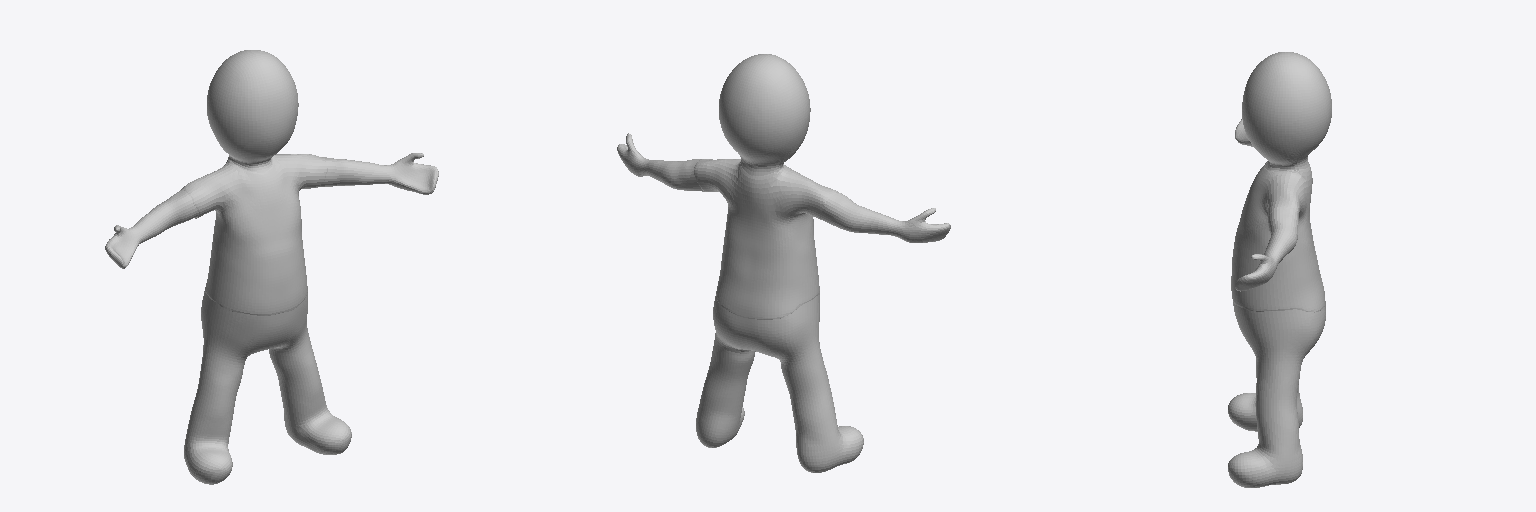
Rendered from stick.obj.
3 views of the same model, side by side, from view 1: azimuth 30°, elevation 25°; view 2: azimuth 150°, elevation 25°; view 3: azimuth 270°, elevation 25° (orthographic).
Parts seen in each view (by area): view 1: Group17963, Group27963; view 2: Group17963, Group27963; view 3: Group17963, Group27963.
Part boxes in pixels (x1,y1,x2,y2): Group17963: (105, 50, 438, 484); Group27963: (182, 154, 327, 315); Group17963: (617, 54, 950, 472); Group27963: (694, 159, 837, 319); Group17963: (1228, 52, 1331, 487); Group27963: (1231, 161, 1324, 312).
Size of the model in its own units: 4.19 by 4.86 by 1.15.